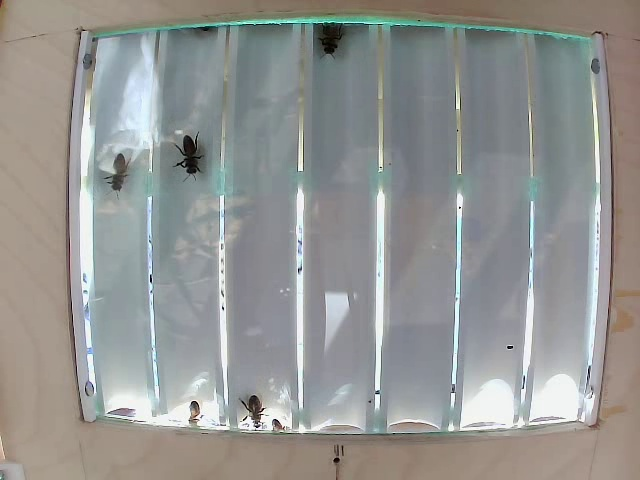bee: (107, 147, 149, 202), (173, 131, 208, 187), (238, 382, 276, 421), (317, 19, 348, 54)
